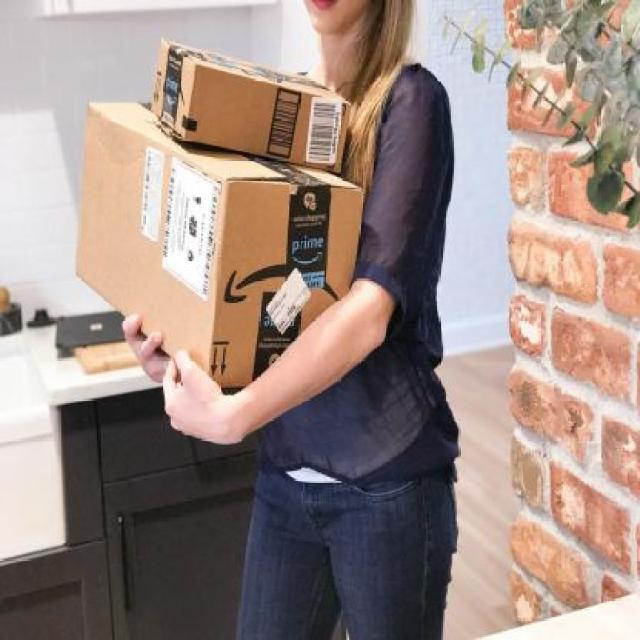cardboxes: (73, 101, 364, 390), (152, 34, 352, 174)
